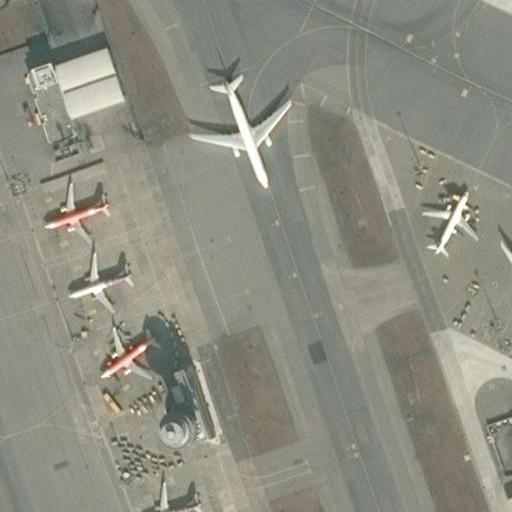Aircraft: (177, 63, 299, 196), (415, 179, 475, 264), (63, 255, 136, 318), (41, 181, 112, 245), (89, 327, 157, 393), (487, 209, 512, 352), (132, 475, 201, 512)
